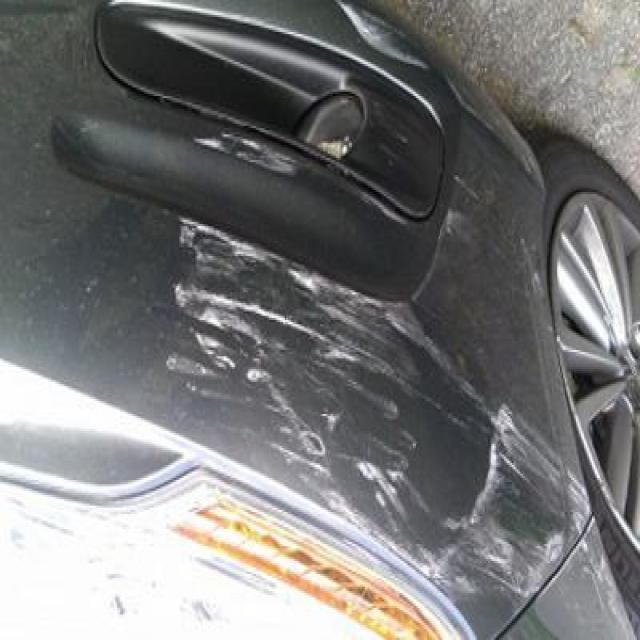scratch: (142, 205, 640, 640), (182, 118, 322, 182)
